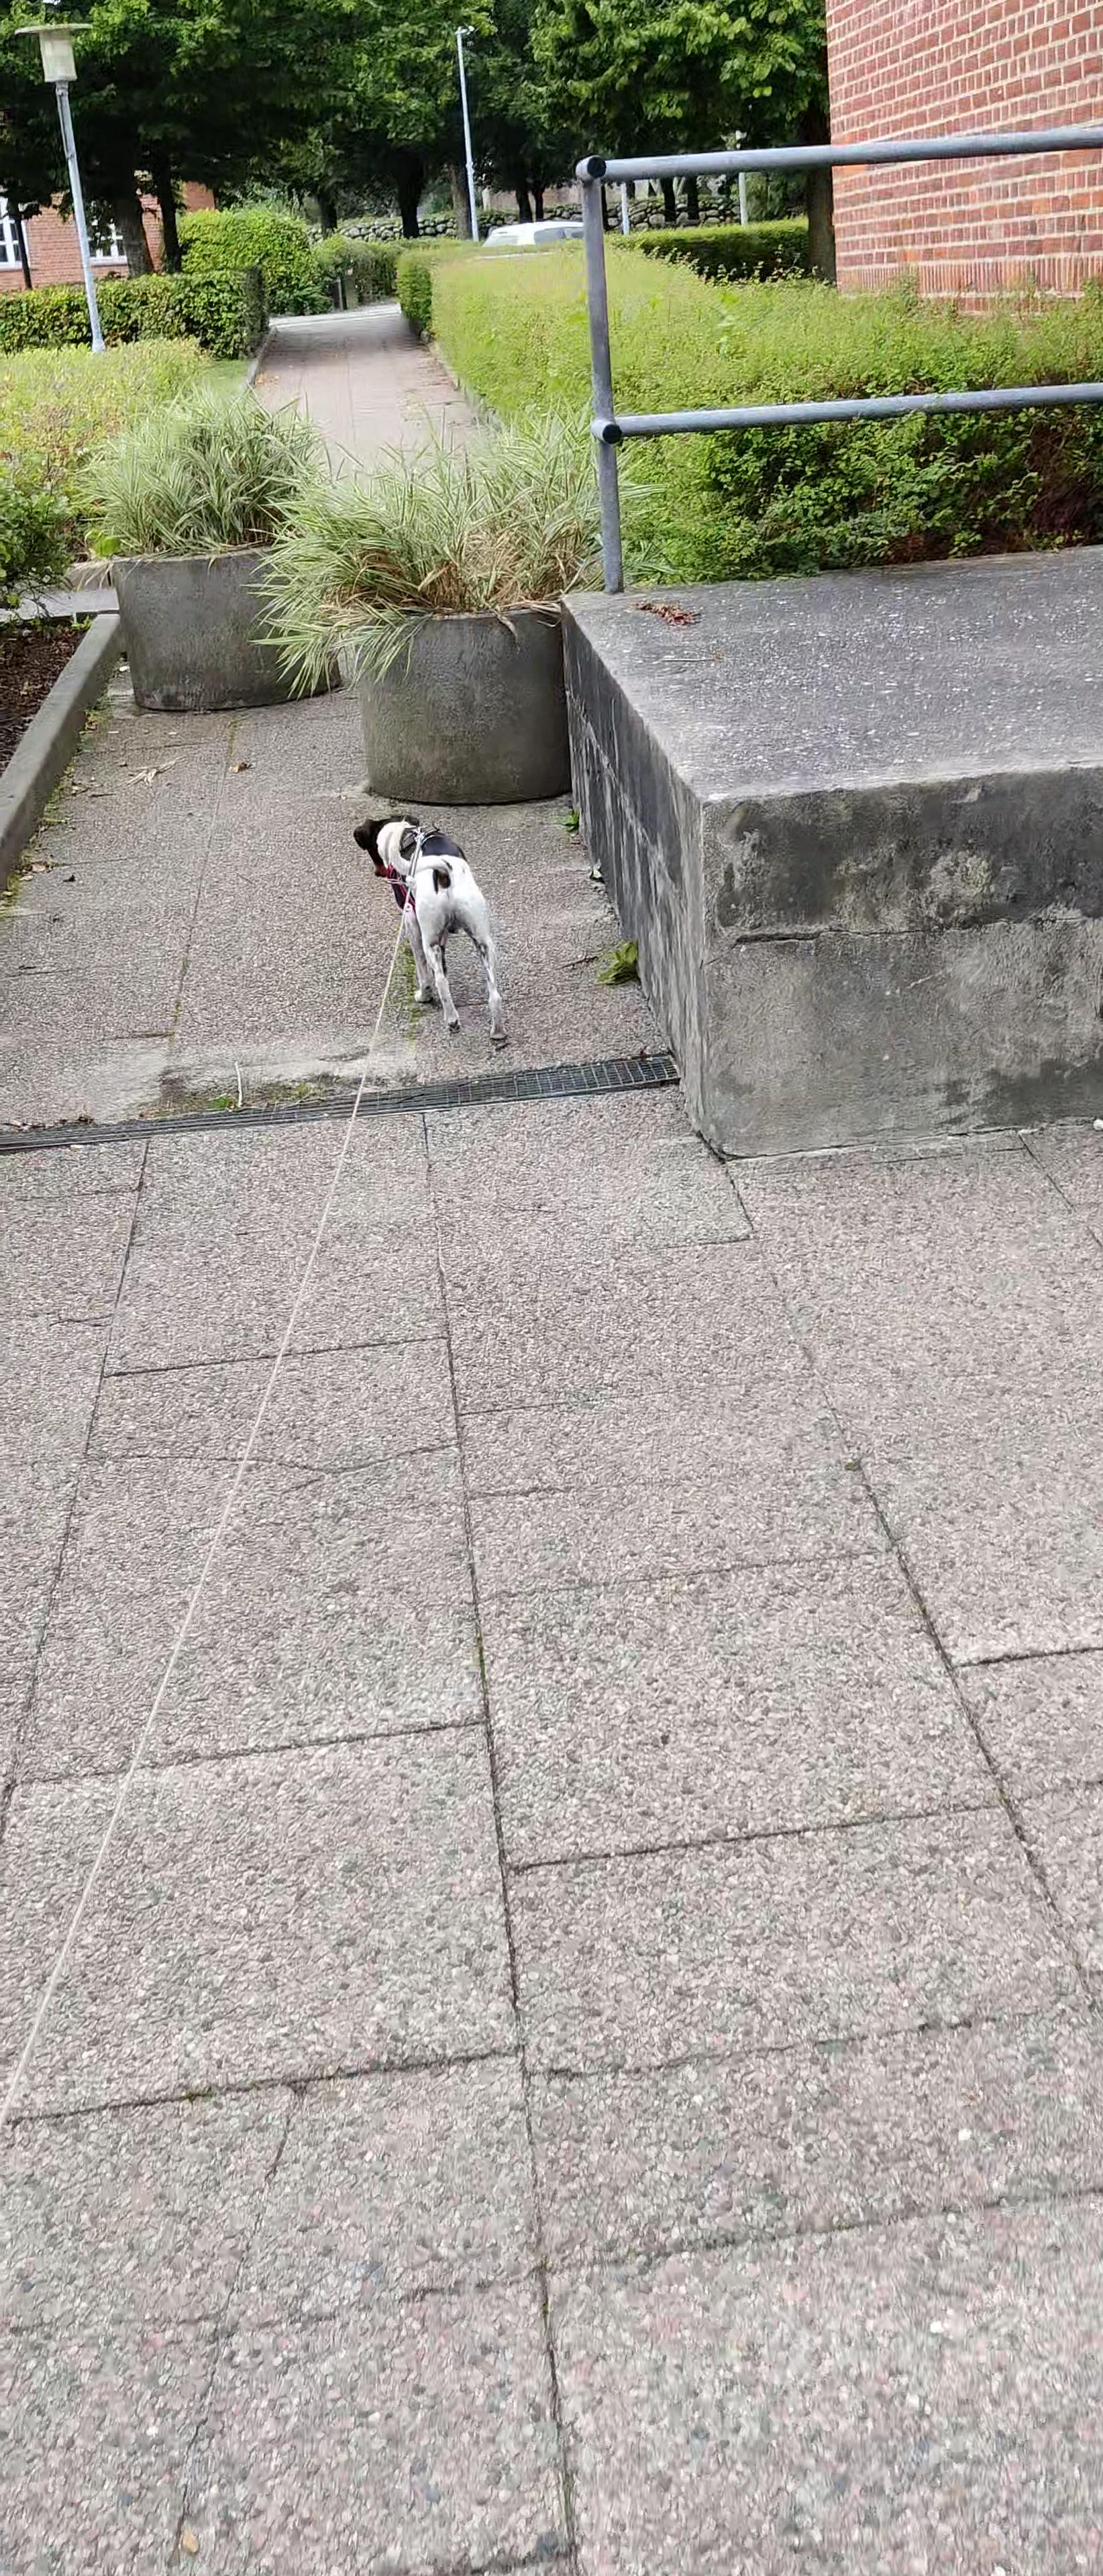Dog: (352, 810, 510, 1043)
